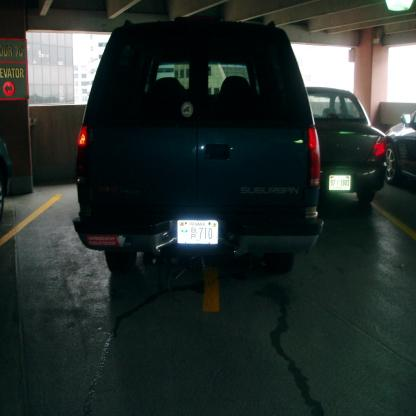Car: (73, 14, 327, 278), (297, 81, 404, 217), (384, 103, 416, 184), (1, 135, 14, 226)
